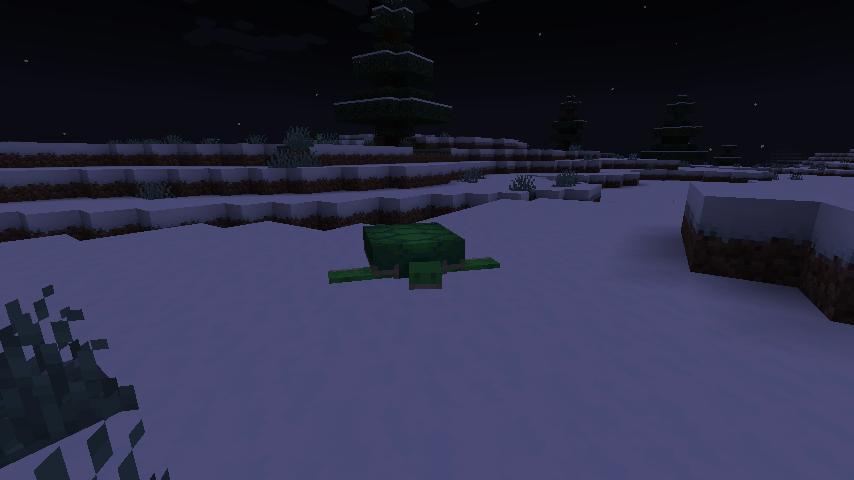turtle: (330, 220, 506, 296)
